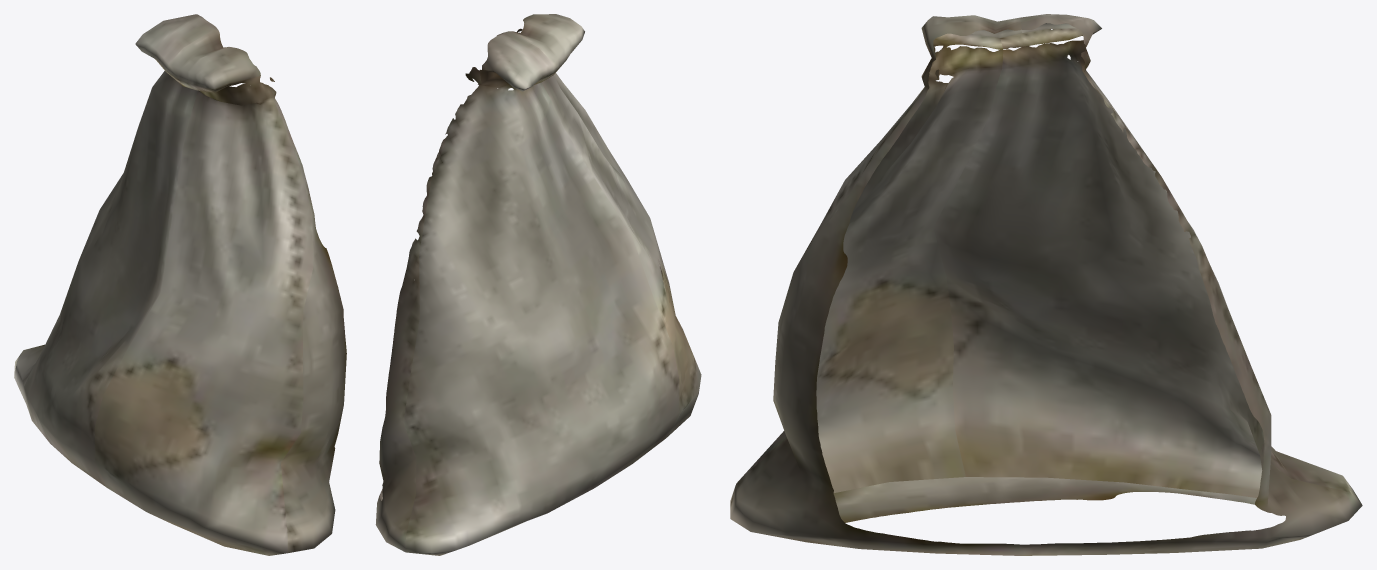
3 views of the same model, side by side, from view 1: azimuth 30°, elevation 25°; view 2: azimuth 150°, elevation 25°; view 3: azimuth 270°, elevation 25° (orthographic). The views are drawn at different scales.
Visible parts, largest first — view 1: SM_Moon_Garou_Decoration_Sack_01_LOD0; view 2: SM_Moon_Garou_Decoration_Sack_01_LOD0; view 3: SM_Moon_Garou_Decoration_Sack_01_LOD0.
Part boxes in pixels (x1,y1,x2,y2): SM_Moon_Garou_Decoration_Sack_01_LOD0: (14, 14, 346, 555); SM_Moon_Garou_Decoration_Sack_01_LOD0: (375, 14, 701, 555); SM_Moon_Garou_Decoration_Sack_01_LOD0: (730, 14, 1362, 555).
Size of the model in its own units: 0.2602 by 0.4884 by 0.5342.
1 material, 1 textured.
